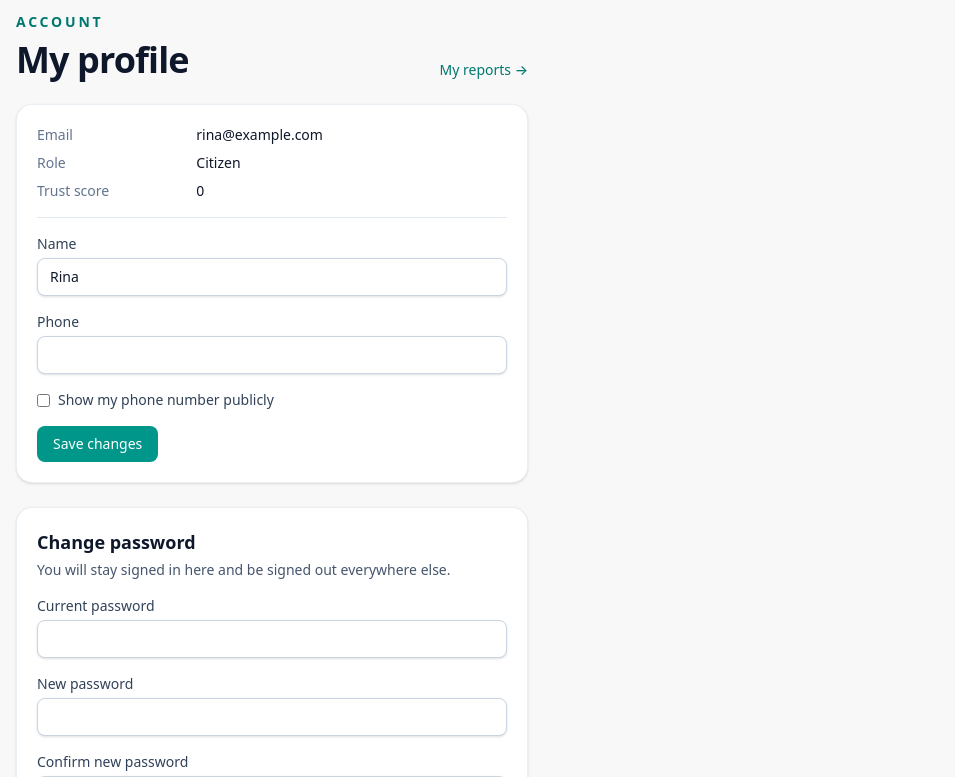
Test: profile form › saves and puts the updated user in the session cache without refetching it
Step 1. Replace the text in the field labelled "Name" with "Rina Akter" → {"x": 272, "y": 277}, box [37,258,507,296]
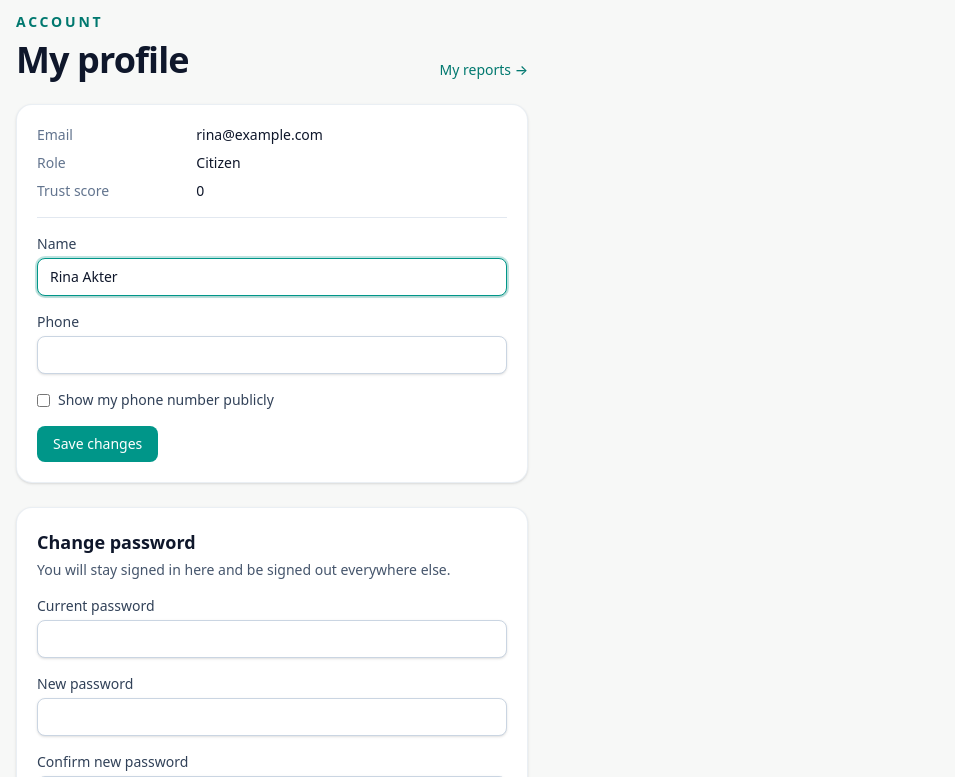
Step 2. Click the button "Save changes" → {"x": 98, "y": 444}, box [37,426,158,462]
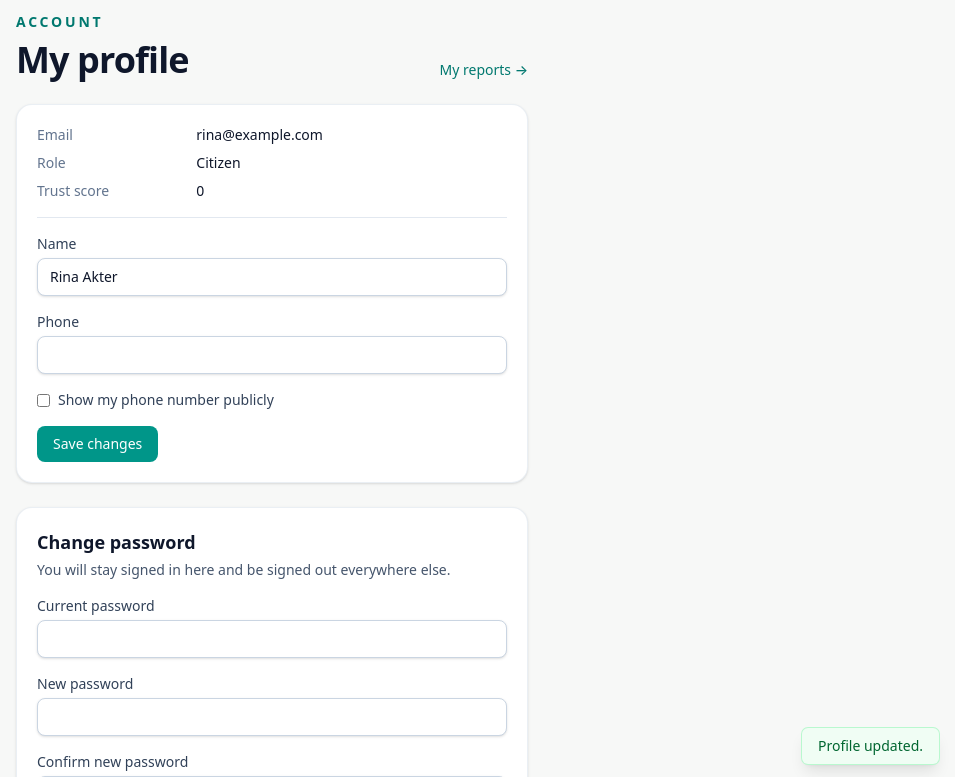
Now the text "Profile updated." is shown, box [802,728,939,764]
